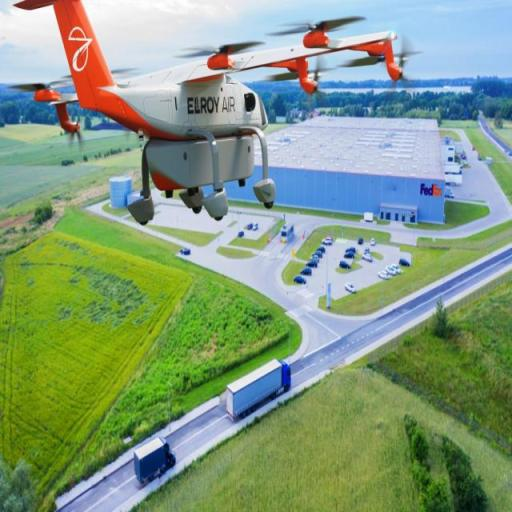uav: (0, 0, 422, 246)
